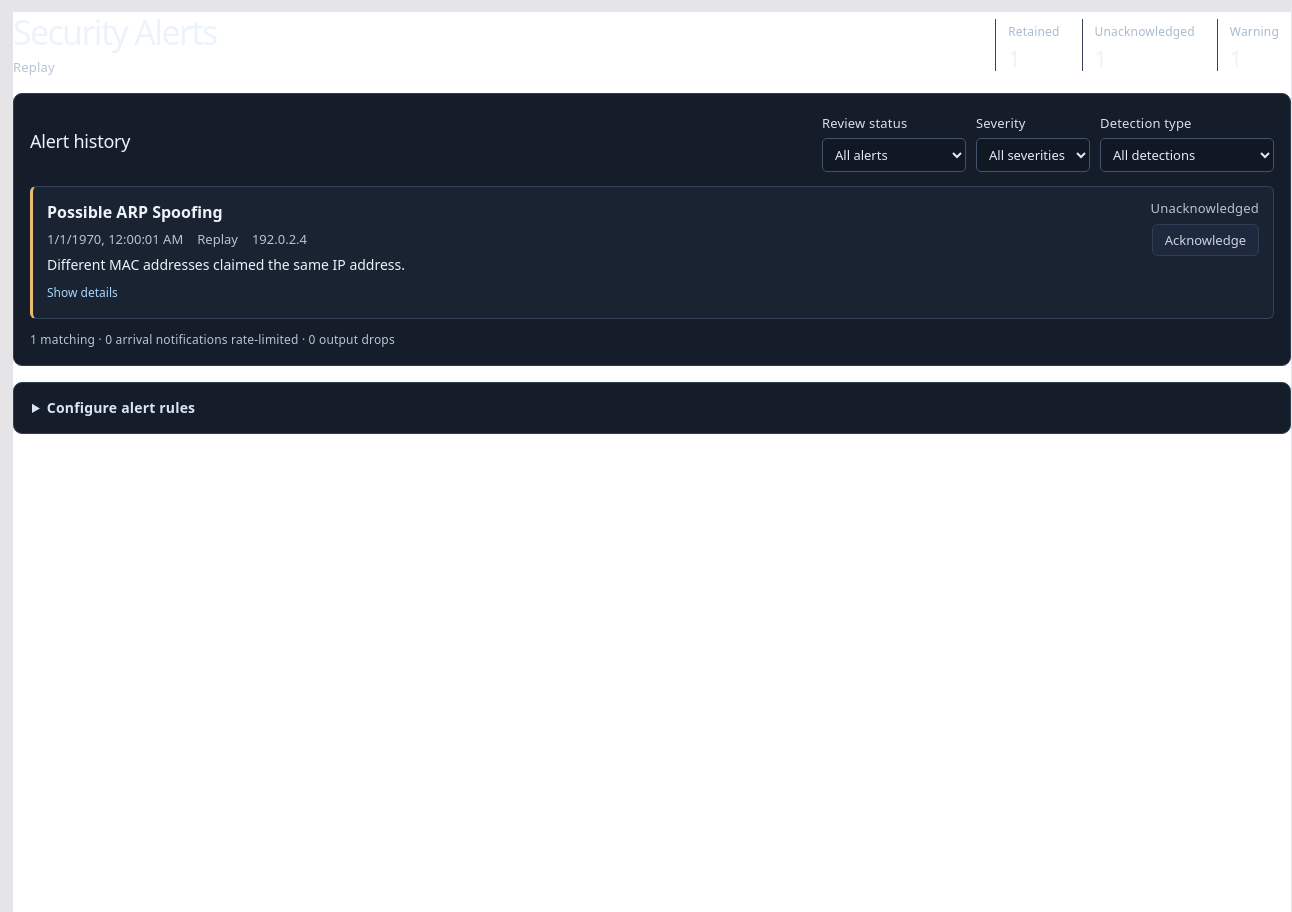
Test: presents Medium with full expandable evidence
This screenshot has width=1292, height=912.
Check: the text "Possible ARP Spoofing" is shown, box [47,199,223,226]
Check: the text "Medium" is not shown
Step 1. Click the button that starts with "Possible ARP Spoofing" → click(135, 212), box [47,199,1137,306]
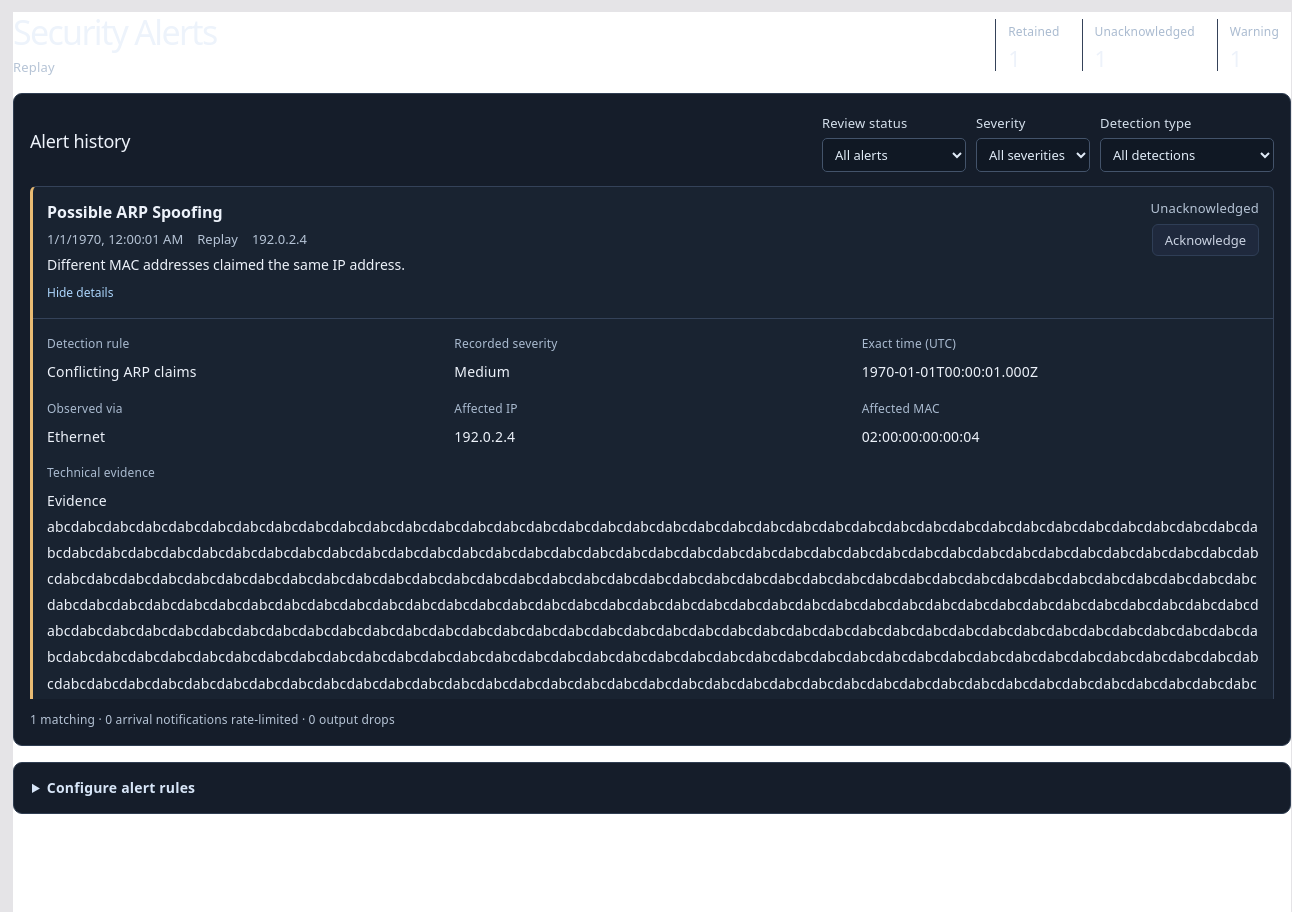
Check: the text "Medium" is shown, box [454,362,510,382]
Check: the text "Ethernet" is shown, box [47,427,105,446]
